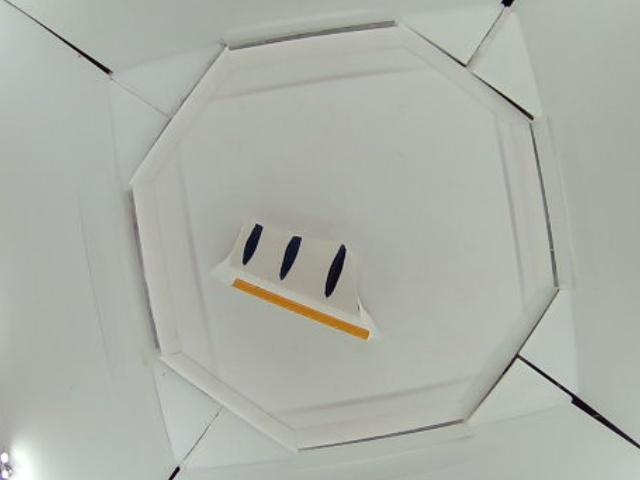China: (213, 220, 380, 343)
